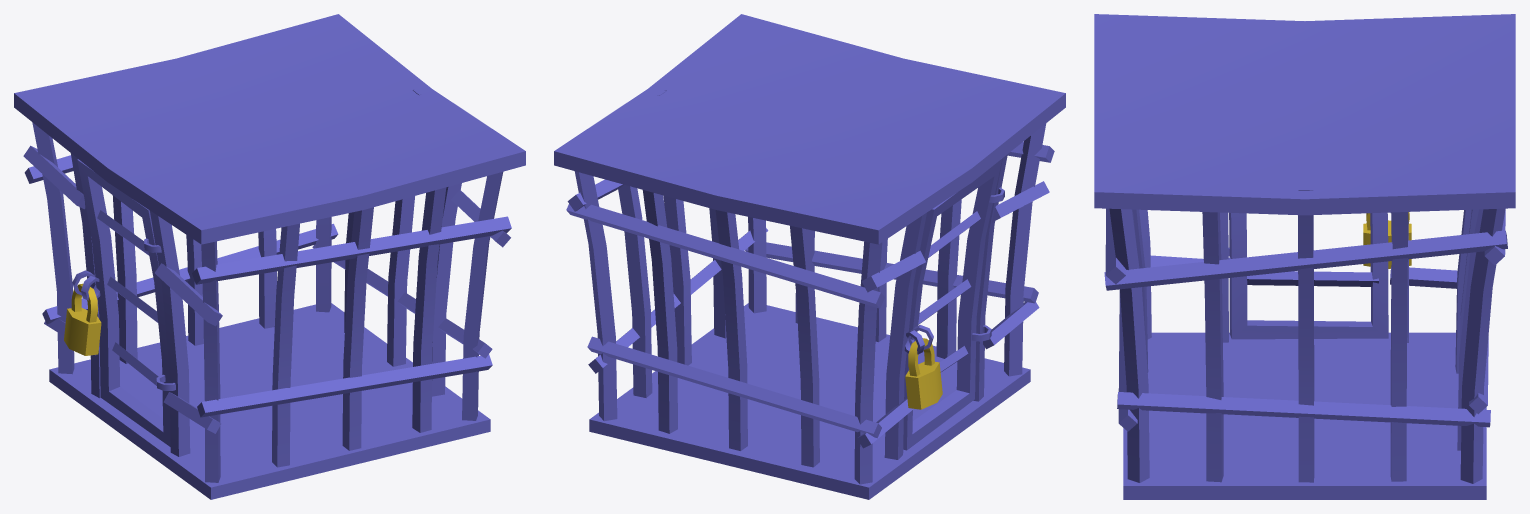
The model's file is cage_undamaged.fbx.
The picture shows the model from 3 angles, left to right: view 1: azimuth 30°, elevation 25°; view 2: azimuth 150°, elevation 25°; view 3: azimuth 270°, elevation 25°; orthographic projection. The views are drawn at different scales.
Visible parts, largest first — view 1: Cube.001; view 2: Cube.001; view 3: Cube.001.
Part boxes in pixels (box(x1,y1,x2,y2)): Cube.001: box(14, 14, 525, 499); Cube.001: box(554, 14, 1065, 499); Cube.001: box(1094, 14, 1515, 499).
Size of the model in its own units: 1516 by 1263 by 1507.
